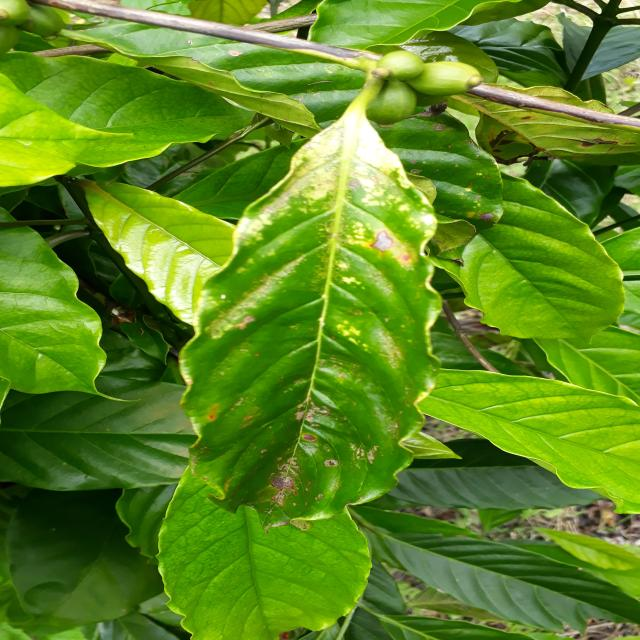Enfermedad-Roya: (174, 118, 446, 534)
